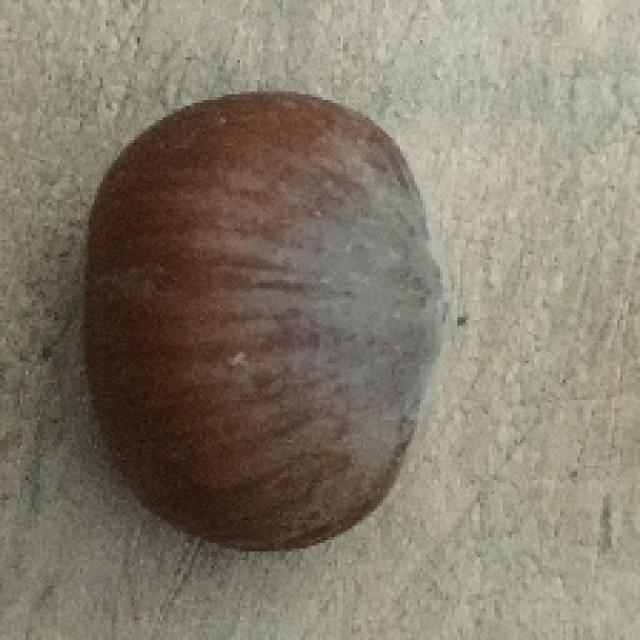qualityHazelnut: (66, 84, 442, 552)
